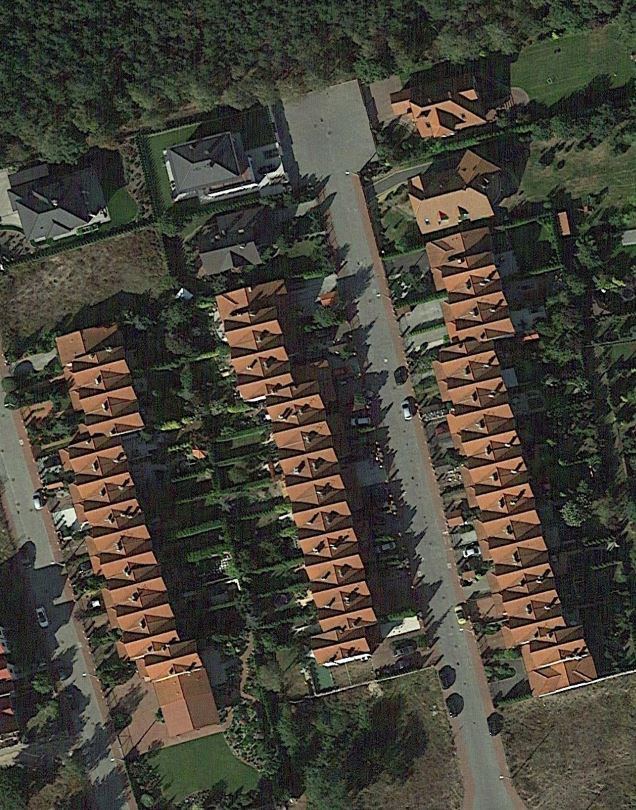family house: (395, 150, 517, 244), (387, 63, 502, 148), (3, 161, 90, 247), (159, 129, 264, 196), (195, 225, 267, 282)
terrace house: (402, 226, 604, 706), (32, 321, 224, 740), (211, 275, 380, 673)
